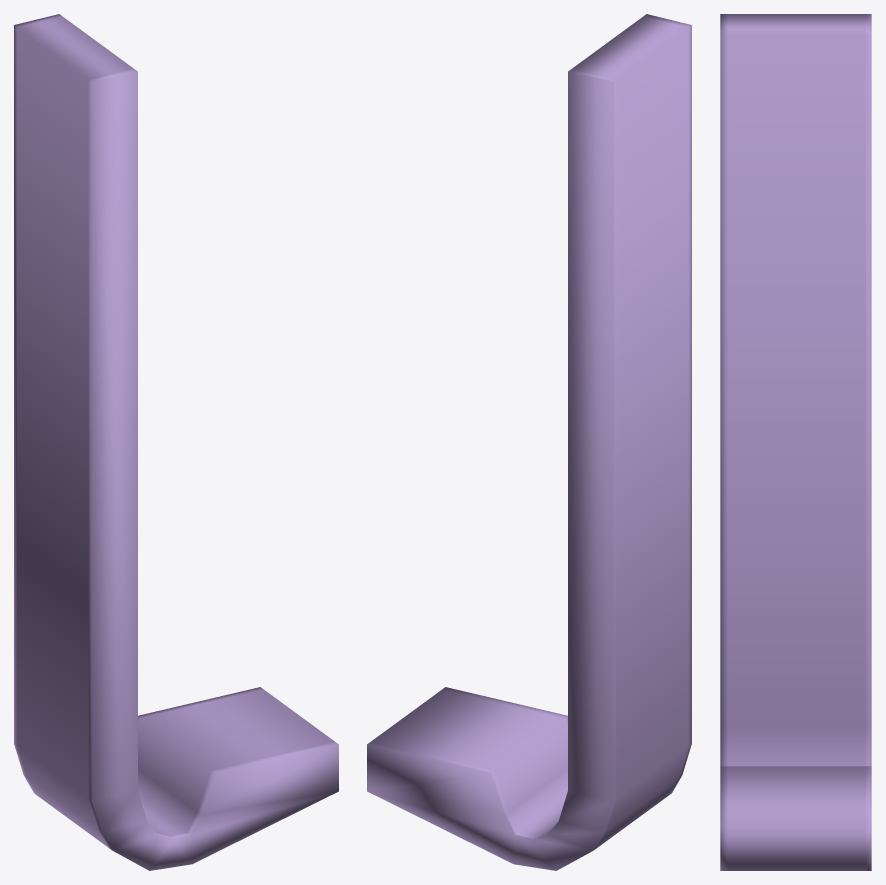
The model's file is chair_arm_side.fbx.
3 renders of one model, left to right at view 1: azimuth 30°, elevation 25°; view 2: azimuth 150°, elevation 25°; view 3: azimuth 270°, elevation 25°, orthographic. The views are drawn at different scales.
Parts seen in each view (by area): view 1: arm_side; view 2: arm_side; view 3: arm_side.
Boxes of the visible parts, box(x1,y1,x2,y2) form: arm_side: box(14, 14, 338, 870); arm_side: box(367, 14, 691, 870); arm_side: box(720, 14, 871, 870).
Size of the model in its own units: 21.75 by 67.99 by 12.
